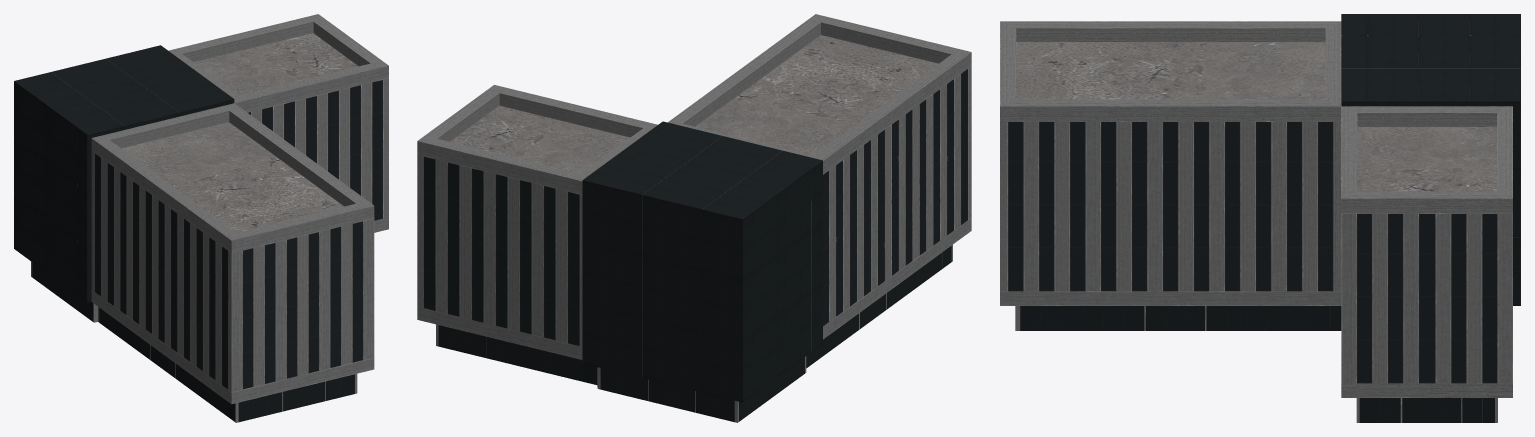
The model's file is building4_2.fbx.
The picture shows the model from 3 angles, left to right: view 1: azimuth 30°, elevation 25°; view 2: azimuth 150°, elevation 25°; view 3: azimuth 270°, elevation 25°; orthographic projection. The views are drawn at different scales.
Visible parts, largest first — view 1: Building_5B; view 2: Building_5B; view 3: Building_5B.
Boxes of the visible parts, left/top/right/bottom form: Building_5B: left=14, top=14, right=388, bottom=422; Building_5B: left=417, top=14, right=971, bottom=422; Building_5B: left=1000, top=14, right=1520, bottom=422.
Bounding box in the file's own units: 35.9 × 22.07 × 44.1.
1 material, 1 textured.
